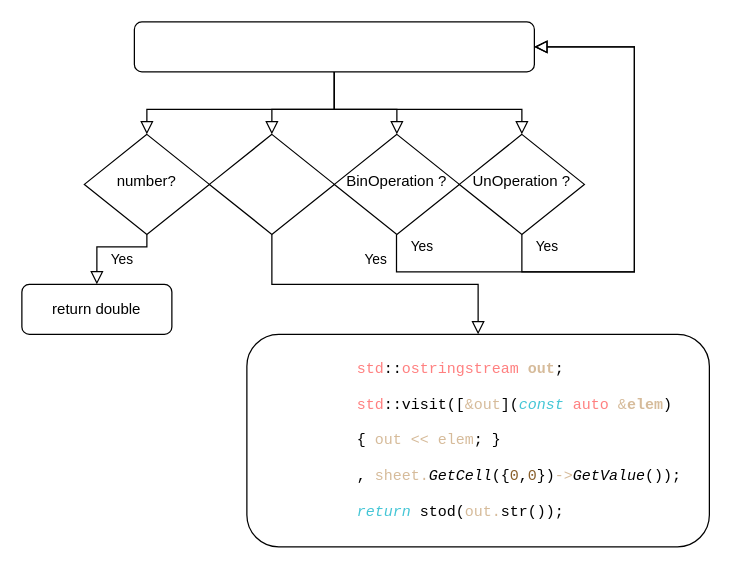
The diagram is 731 pixels wide and 569 high, and some of its shapes have lost their labels. The box of each missing label's shape, as (x1, y1, x2, y2) in pixels:
Cell?: (208, 133, 334, 234)
Evaluate ( const SheetInterface & sheet ): (133, 21, 534, 72)
